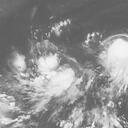cyclone: (38, 58, 79, 97), (100, 37, 127, 87)
